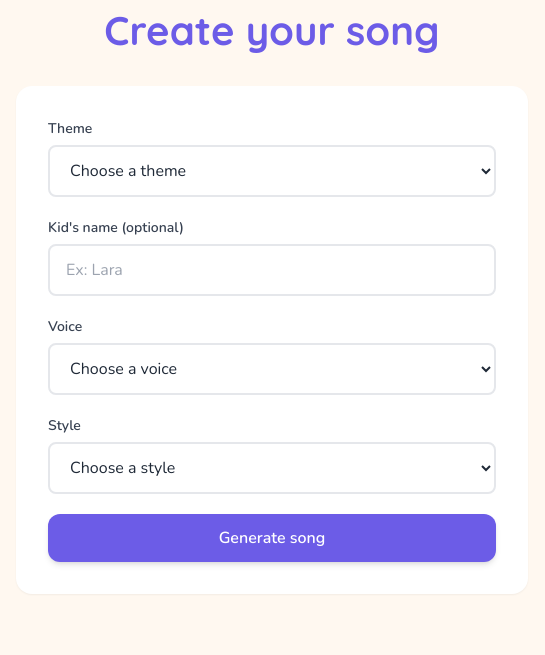
Test: CreatePage › disables submit button while submitting
The image size is (545, 655).
Step 1. Click the button "Generate song" → (272, 538), box [48, 514, 496, 562]
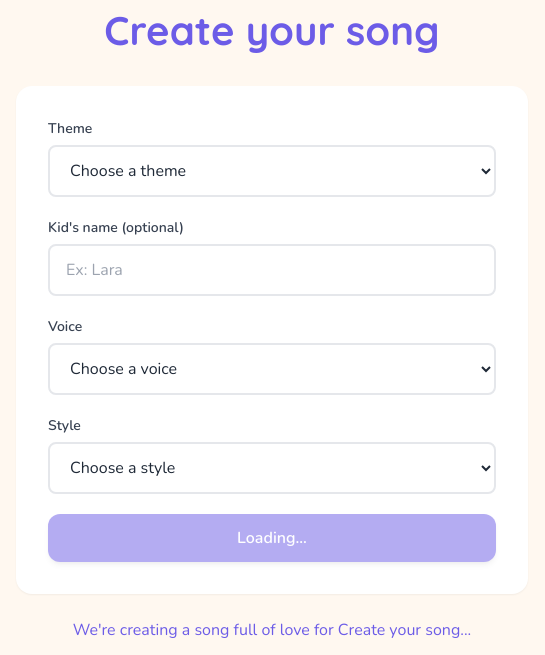
Now the button "Loading..." is disabled, box [48, 514, 496, 562]
